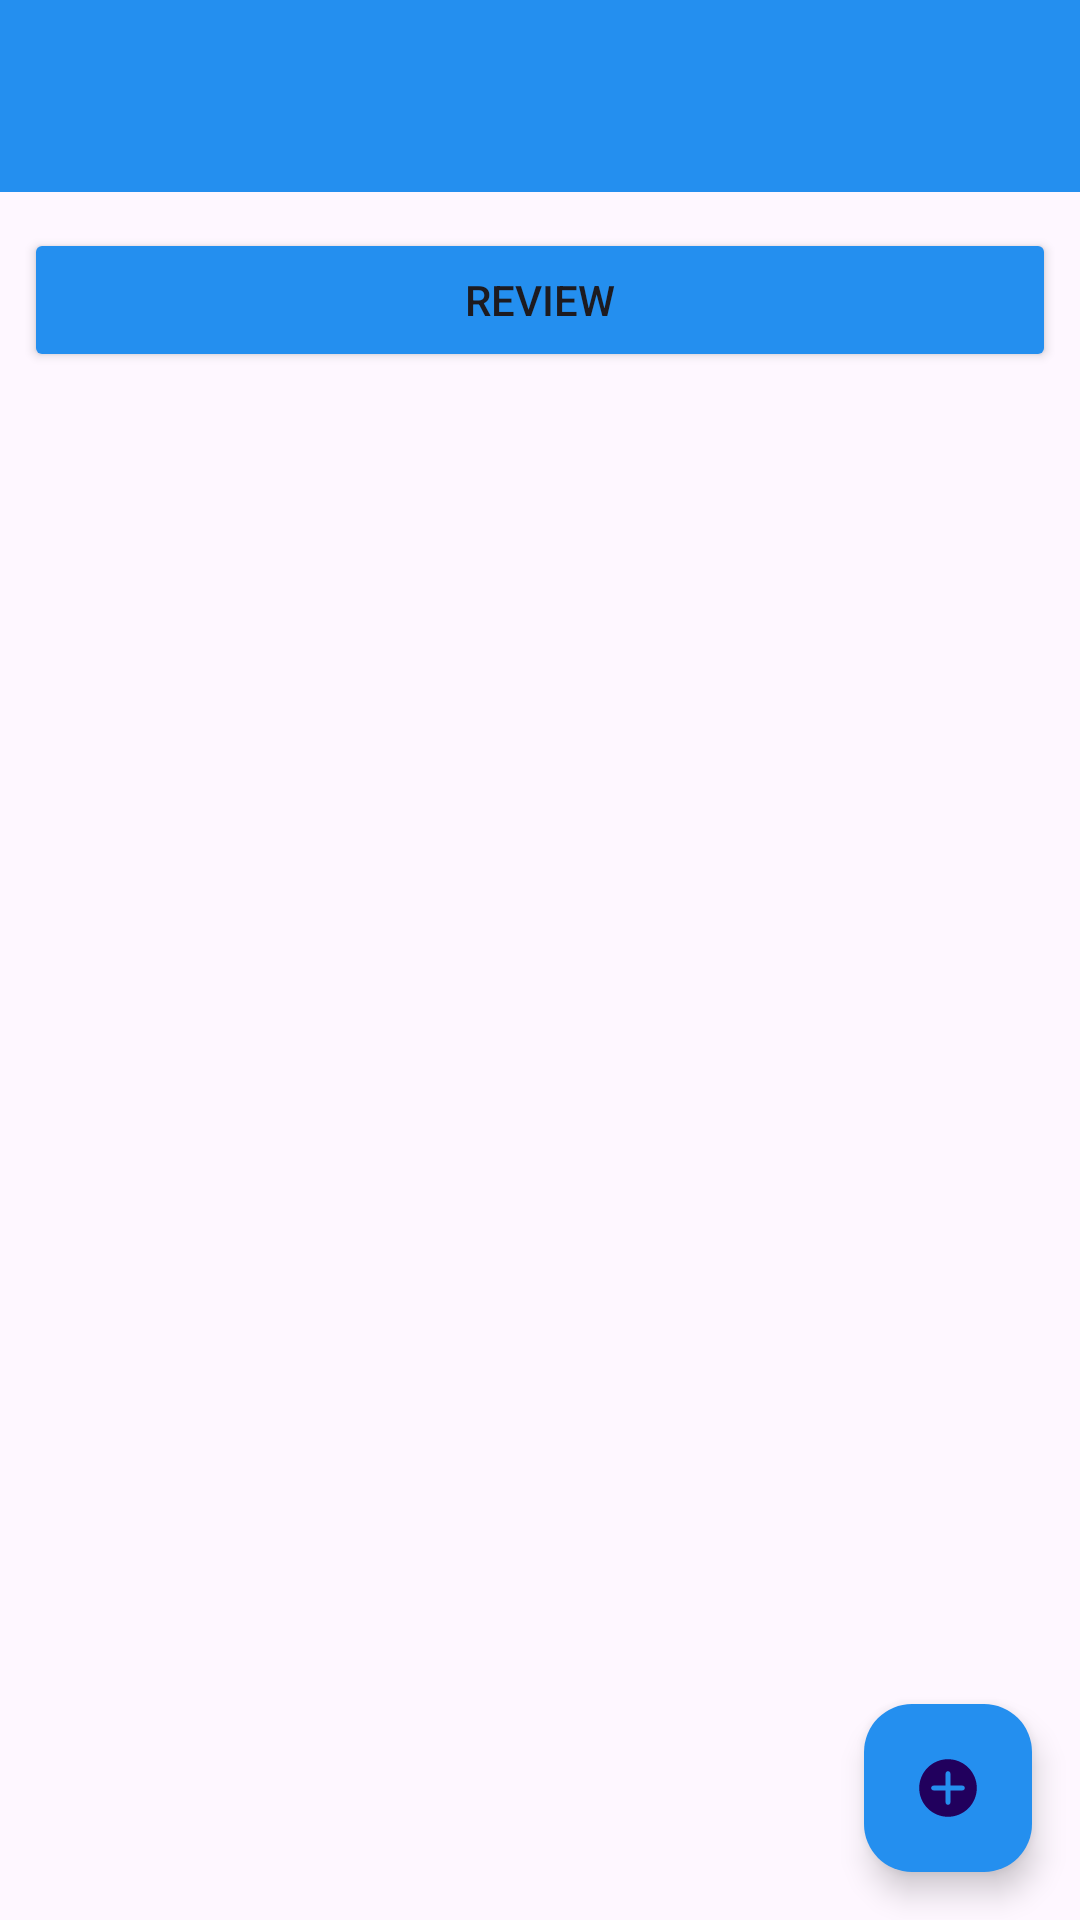

Screen size 1080px x 1920px. Icon name, then its box in pixels as {"x1": x1, "y1": y1, "x2": x2, "y2": y2}:
Add button: {"x1": 864, "y1": 1704, "x2": 1032, "y2": 1872}
